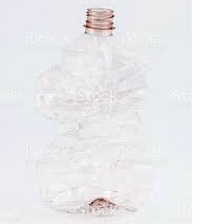bottle: (28, 3, 161, 218)
